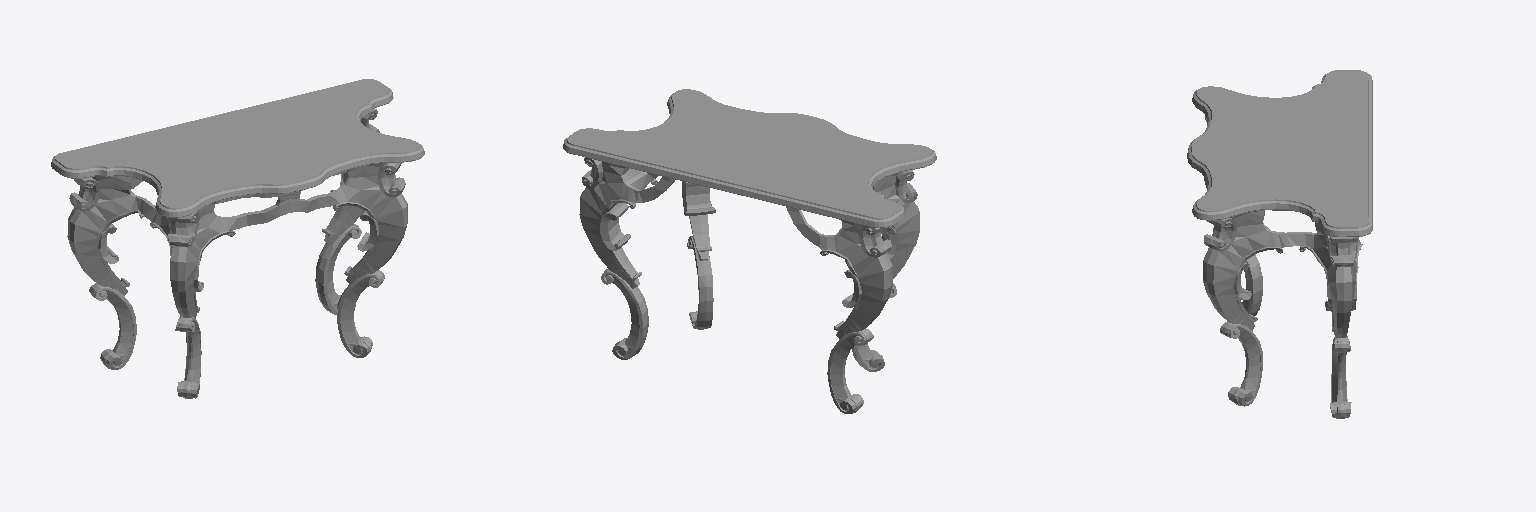
File: Table.obj
3 views of the same model, side by side, from view 1: azimuth 30°, elevation 25°; view 2: azimuth 150°, elevation 25°; view 3: azimuth 270°, elevation 25° (orthographic).
Parts seen in each view (by area): view 1: Table_Fitted_Plane.002; view 2: Table_Fitted_Plane.002; view 3: Table_Fitted_Plane.002.
Part boxes in pixels (x1,y1,x2,y2): Table_Fitted_Plane.002: (51, 79, 424, 398); Table_Fitted_Plane.002: (563, 89, 936, 413); Table_Fitted_Plane.002: (1187, 70, 1372, 418).
Size of the model in its own units: 1.58 by 0.9784 by 0.7682.